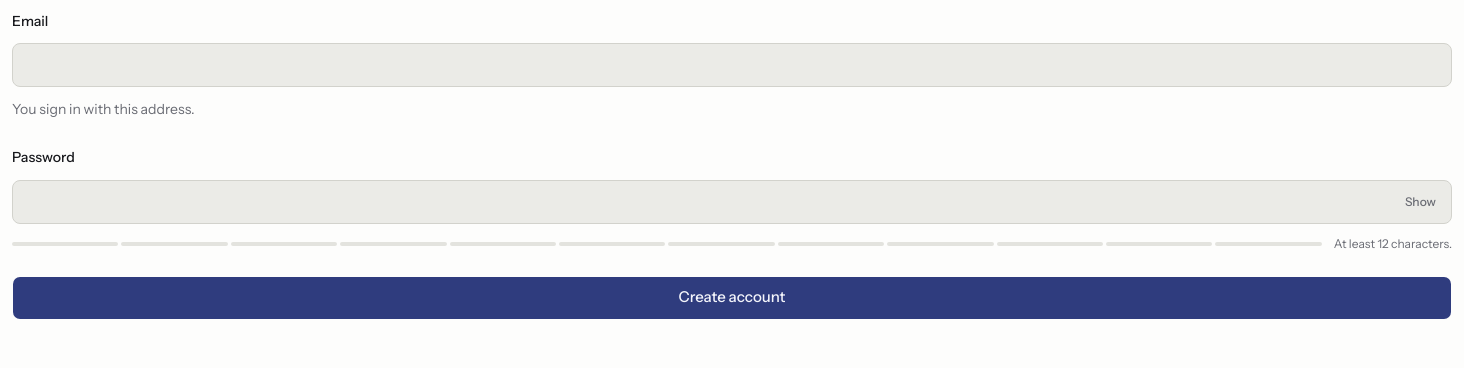
Test: RegisterForm › a password rejection shows under the password and keeps the email typed
Type "ada@example.com" into the field labelled "Email". click: x=732, y=65
box: [12,43,1452,87]
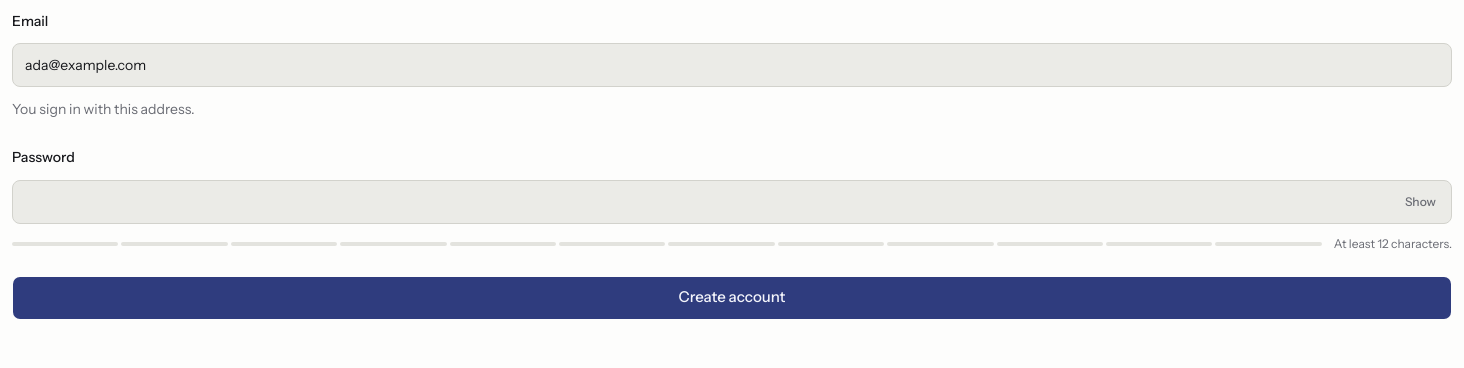
Type "short" into the password field labelled "Password". click: x=732, y=202
box: [12,180,1452,224]
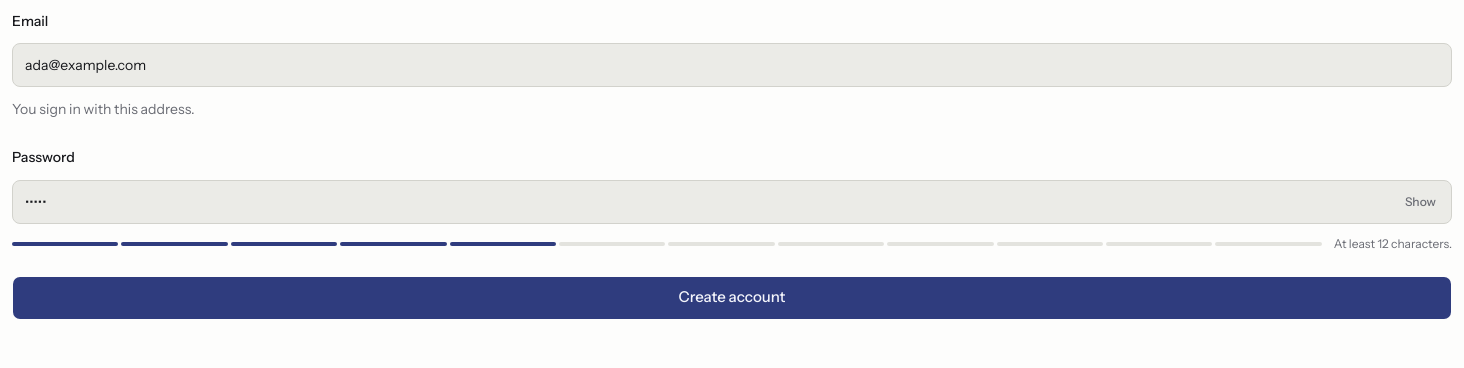
Click the button "Create account". click: x=732, y=298
box: [12,276,1452,320]
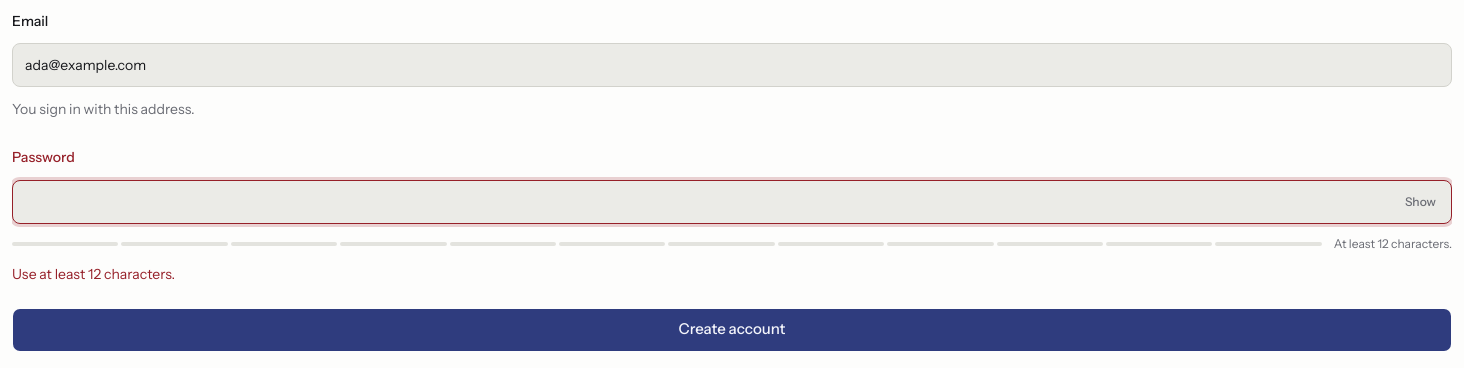
Check: the message "Use at least 12 characters." is shown, box [12,264,175,282]
